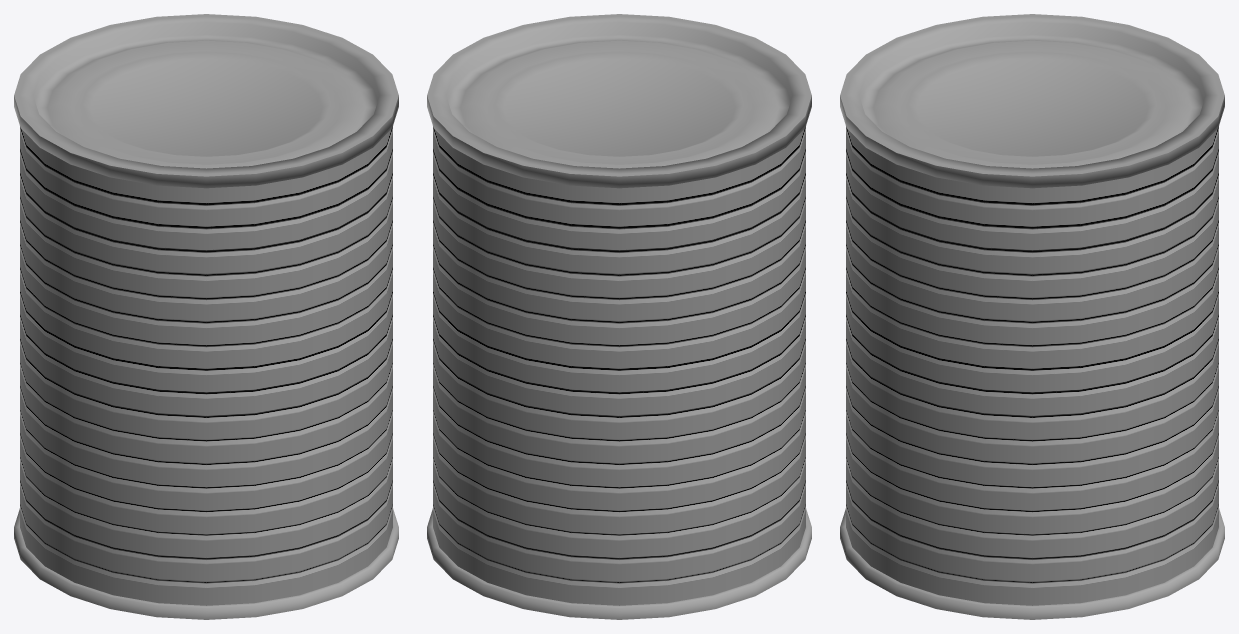
Rendered from Can.fbx.
3 views of the same model, side by side, from view 1: azimuth 30°, elevation 25°; view 2: azimuth 150°, elevation 25°; view 3: azimuth 270°, elevation 25° (orthographic).
Parts seen in each view (by area): view 1: Cylinder; view 2: Cylinder; view 3: Cylinder.
Part boxes in pixels (left/top/right/bottom): Cylinder: left=14, top=14, right=398, bottom=619; Cylinder: left=427, top=14, right=811, bottom=619; Cylinder: left=840, top=14, right=1224, bottom=619.
Bounding box in the file's own units: 43.32 × 55.05 × 43.32.
2 materials, 1 textured.
